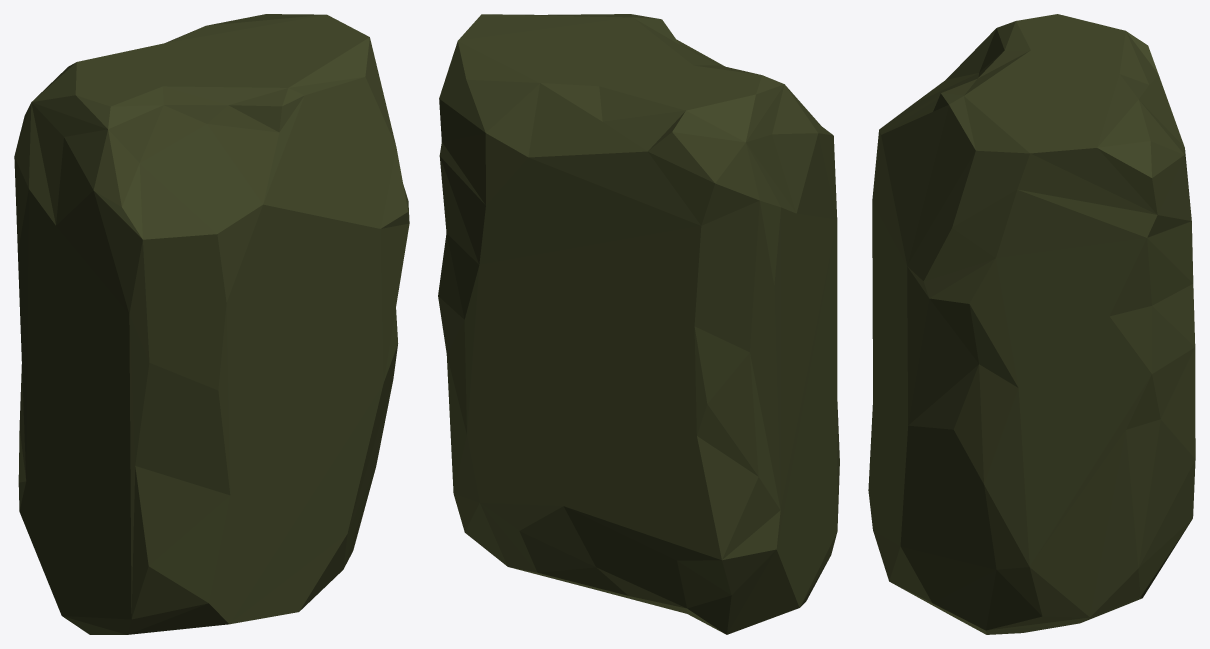
The model's file is SM_small_rock_07.fbx.
3 renders of one model, left to right at view 1: azimuth 30°, elevation 25°; view 2: azimuth 150°, elevation 25°; view 3: azimuth 270°, elevation 25°, orthographic. The views are drawn at different scales.
Parts seen in each view (by area): view 1: small_rock_07; view 2: small_rock_07; view 3: small_rock_07.
Part boxes in pixels (x1=…): small_rock_07: x1=14, y1=14, x2=409, y2=634; small_rock_07: x1=438, y1=14, x2=839, y2=634; small_rock_07: x1=868, y1=14, x2=1195, y2=634.
Size of the model in its own units: 12.27 by 18.46 by 10.45.
